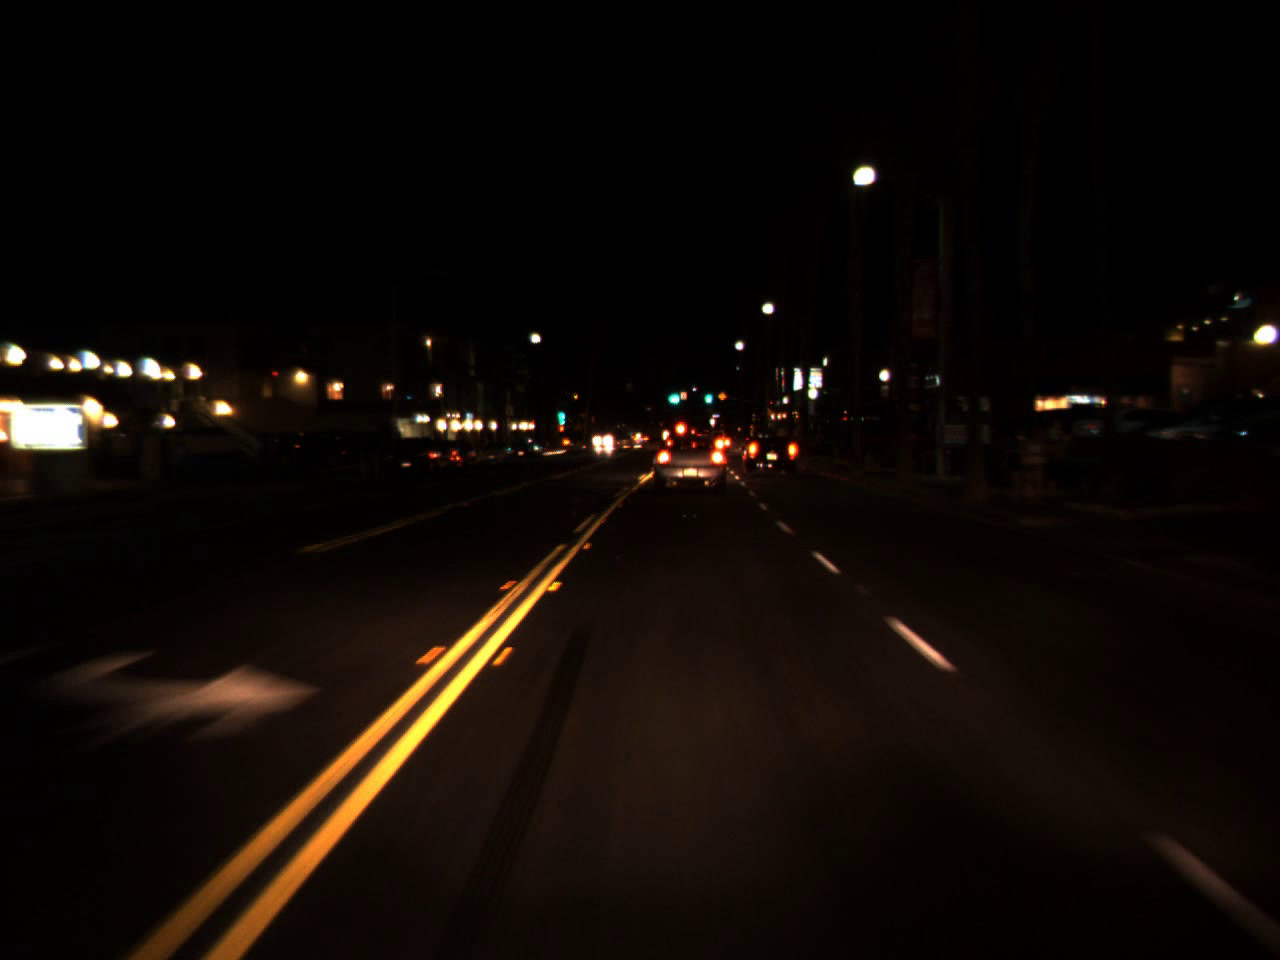go: (665, 381, 681, 408), (557, 396, 566, 429), (703, 387, 713, 402)
